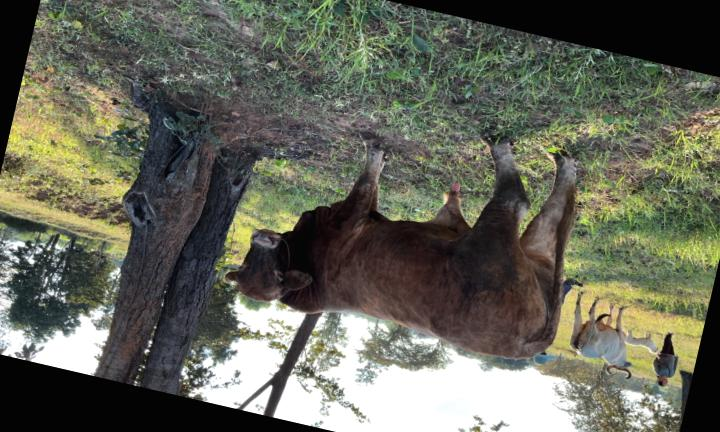Charolais: (225, 134, 576, 359)
